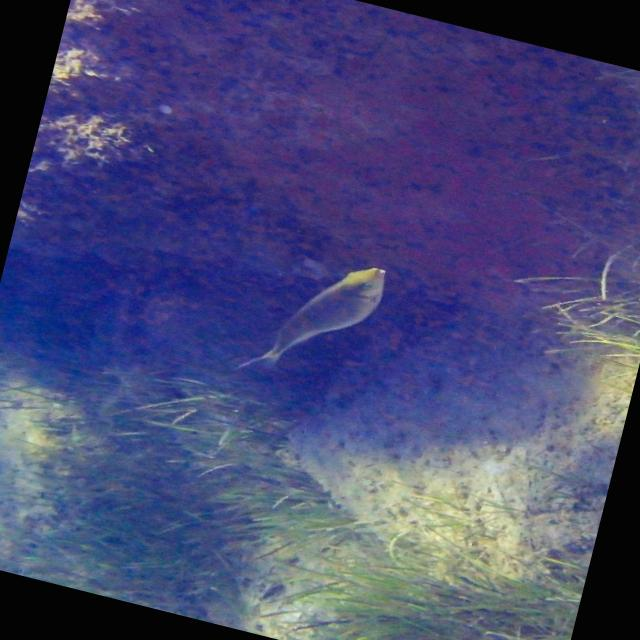Sokar Baligi: (208, 221, 416, 413)
